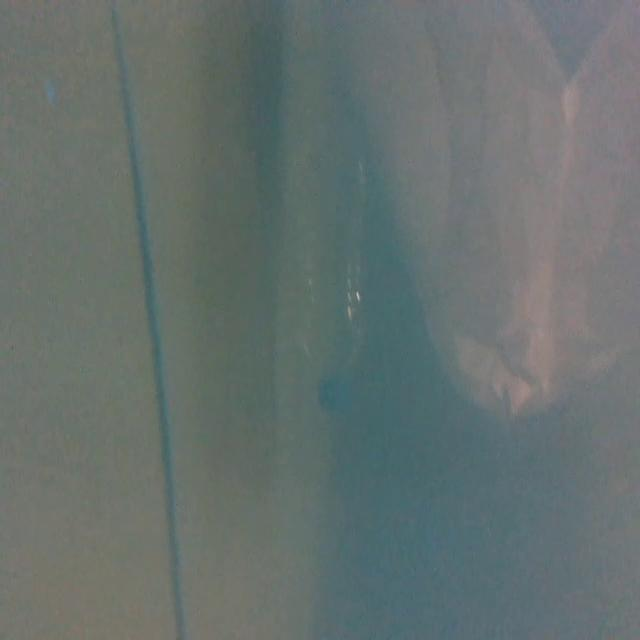plastic bags: (353, 0, 640, 421)
plastic bottle: (292, 142, 371, 415)
